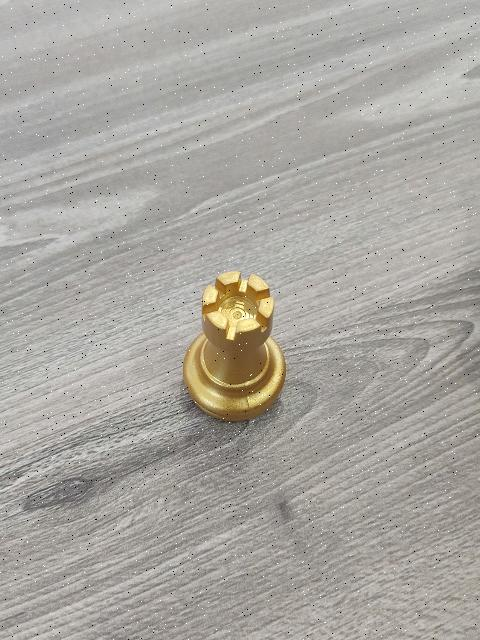black_rook: (177, 267, 291, 424)
